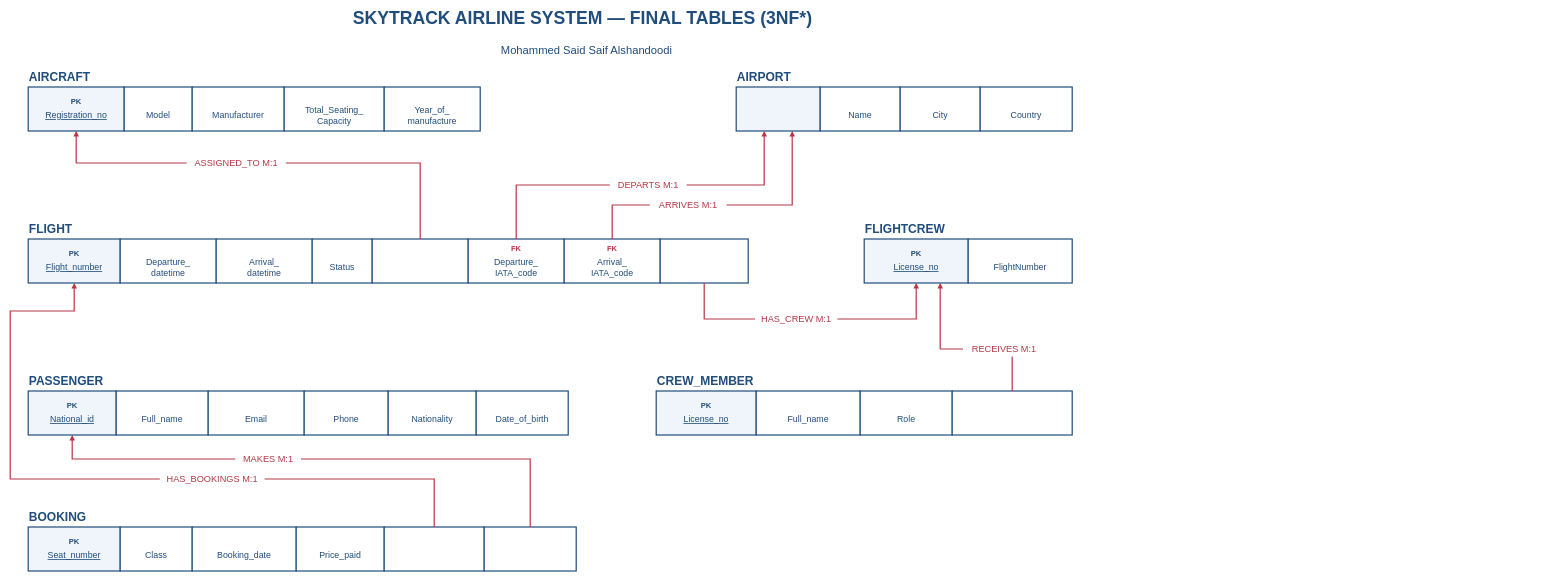
The diagram is 1555 pixels wide and 578 high, and some of its shapes have lost their labels. Here are the shapes that lost their labels. From the top down, the centre of each, then its label:
At point 778,108: "PK IATA_code".
At point 420,260: "FK Registration_no".
At point 704,260: "FK License_no".
At point 1012,412: "FK FlightCrew_ License_no".
At point 434,548: "FK Flight_number".
At point 530,548: "FK National_id".
